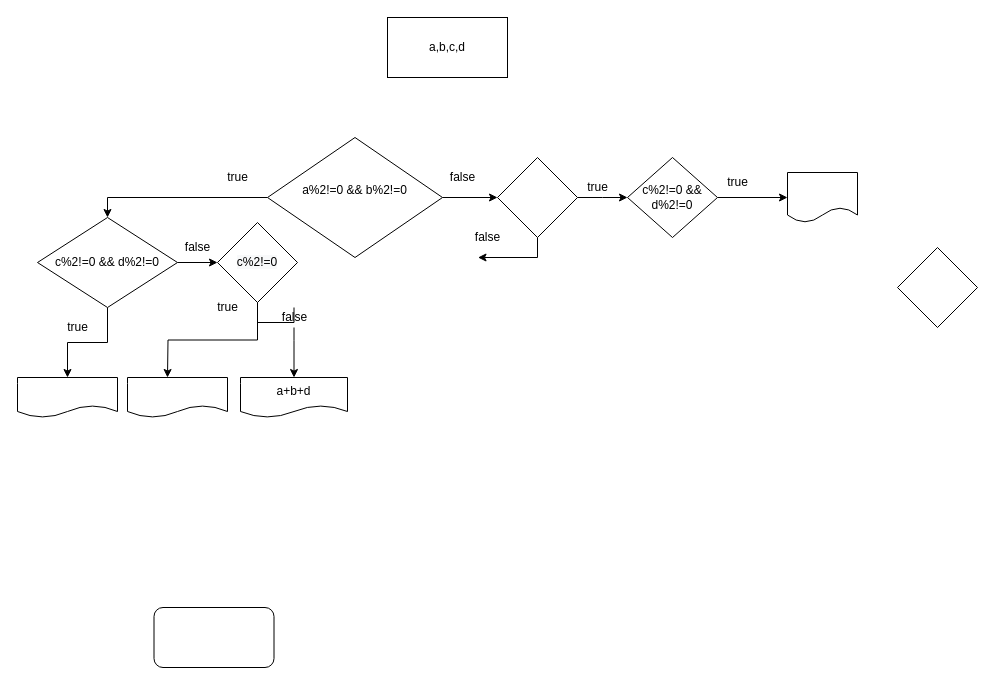
Some shapes in this 995 by 685 pixel diagram are drawn without their labels. Each missing label, with the centre of its shape:
a%2!=0: (537,197)
a+b+c: (177,397)
a+b+c+d: (67,397)
